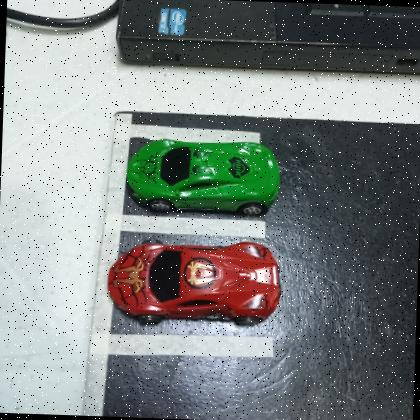Car: (105, 234, 284, 330), (124, 137, 282, 216)
